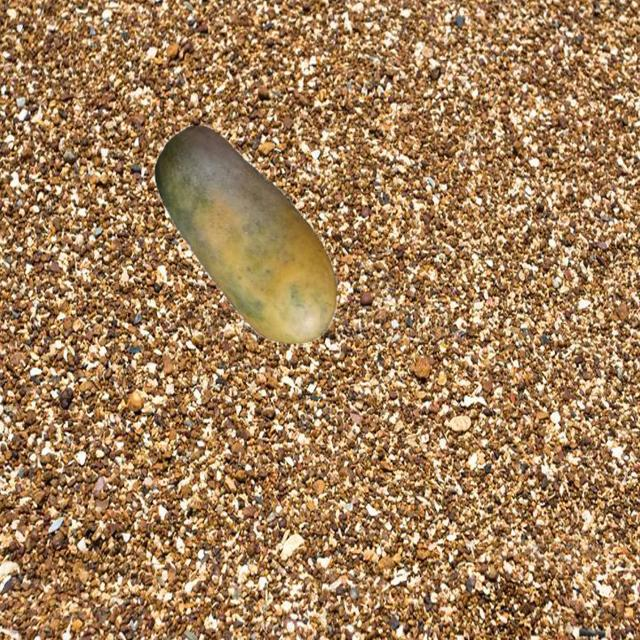Pepaya rippen: (142, 113, 353, 352)
